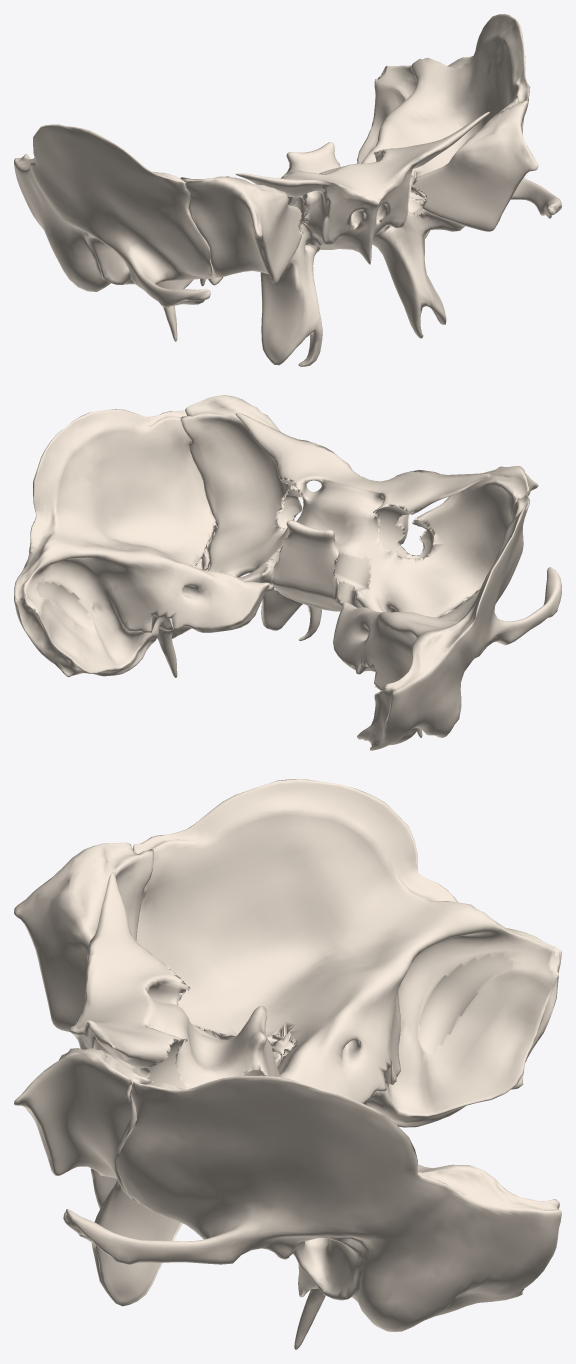
Rendered from skullbase_fs_s122_female.glb.
The picture shows the model from 3 angles, top to bottom: view 1: azimuth 30°, elevation 25°; view 2: azimuth 150°, elevation 25°; view 3: azimuth 270°, elevation 25°; orthographic projection. The views are drawn at different scales.
Visible parts, largest first — view 1: Sphenoid bone, Temporal bone.r, Temporal bone.l; view 2: Sphenoid bone, Temporal bone.l, Temporal bone.r; view 3: Temporal bone.r, Temporal bone.l, Sphenoid bone.
Boxes of the visible parts, x1,y1,x2,y2 form: Sphenoid bone: (180, 96, 538, 366); Temporal bone.r: (14, 124, 212, 341); Temporal bone.l: (357, 14, 561, 238); Sphenoid bone: (180, 395, 538, 640); Temporal bone.l: (14, 409, 269, 677); Temporal bone.r: (333, 494, 561, 750); Temporal bone.r: (132, 779, 561, 1127); Temporal bone.l: (63, 1075, 561, 1349); Sphenoid bone: (14, 842, 295, 1306).
Size of the model in its own units: 0.1444 by 0.0724 by 0.1069.
